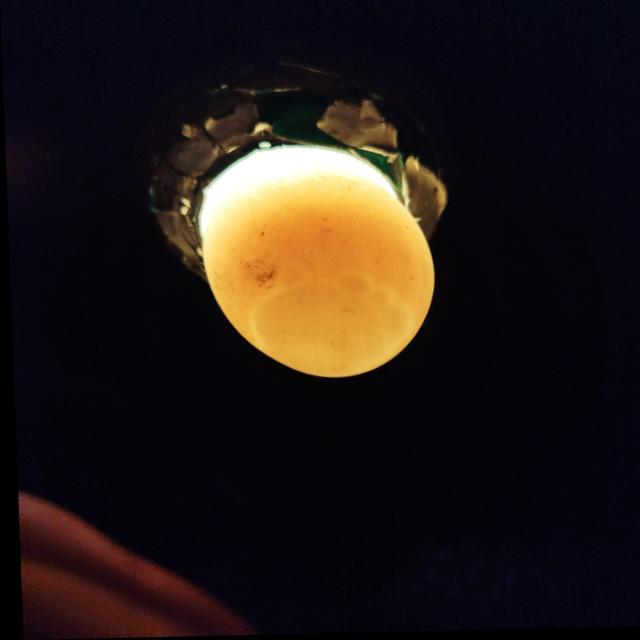Camara de Ar: (247, 276, 409, 380)
